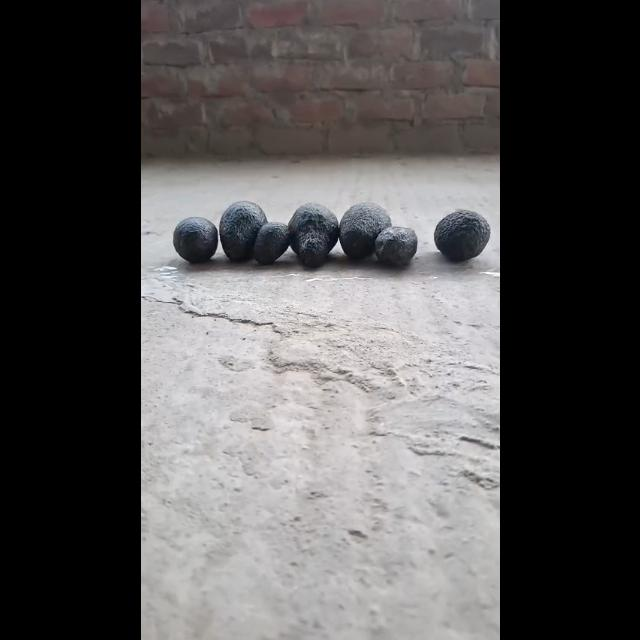Primera: (336, 200, 392, 260), (286, 202, 338, 266), (432, 208, 490, 262), (217, 200, 267, 262)
Segunda: (170, 215, 218, 262), (373, 226, 417, 266)
Tercera: (252, 221, 290, 265)
